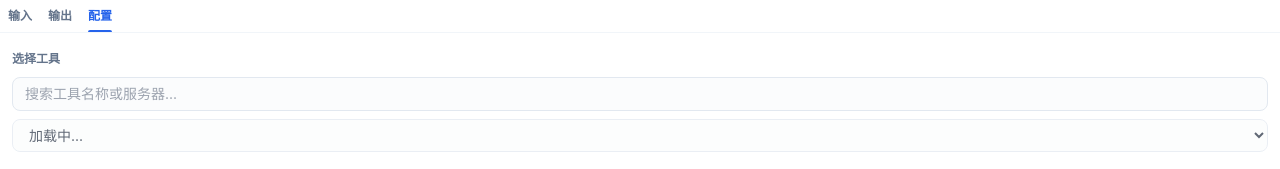
Test case: NodeConfigTabs › switches to input tab
Click the tab "输入" at (20, 20), box [8,8,32,32]
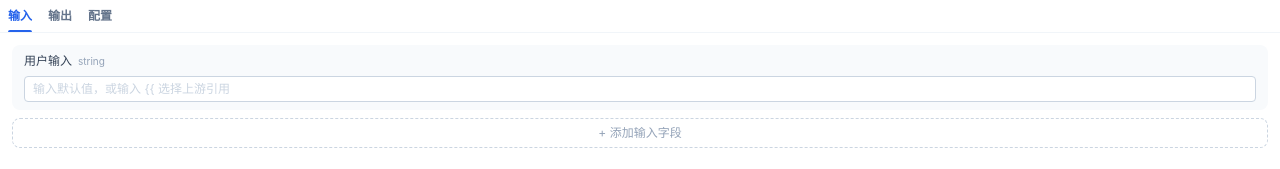
Check: the text "用户输入" is shown, box [24,53,72,69]
